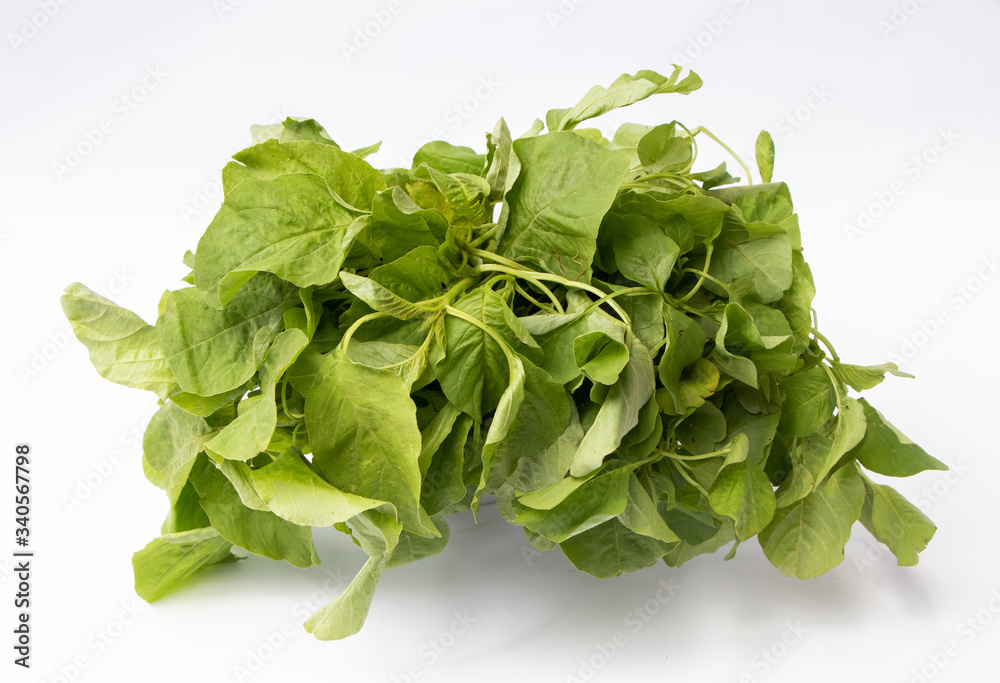Kangkung: (98, 85, 938, 600)
